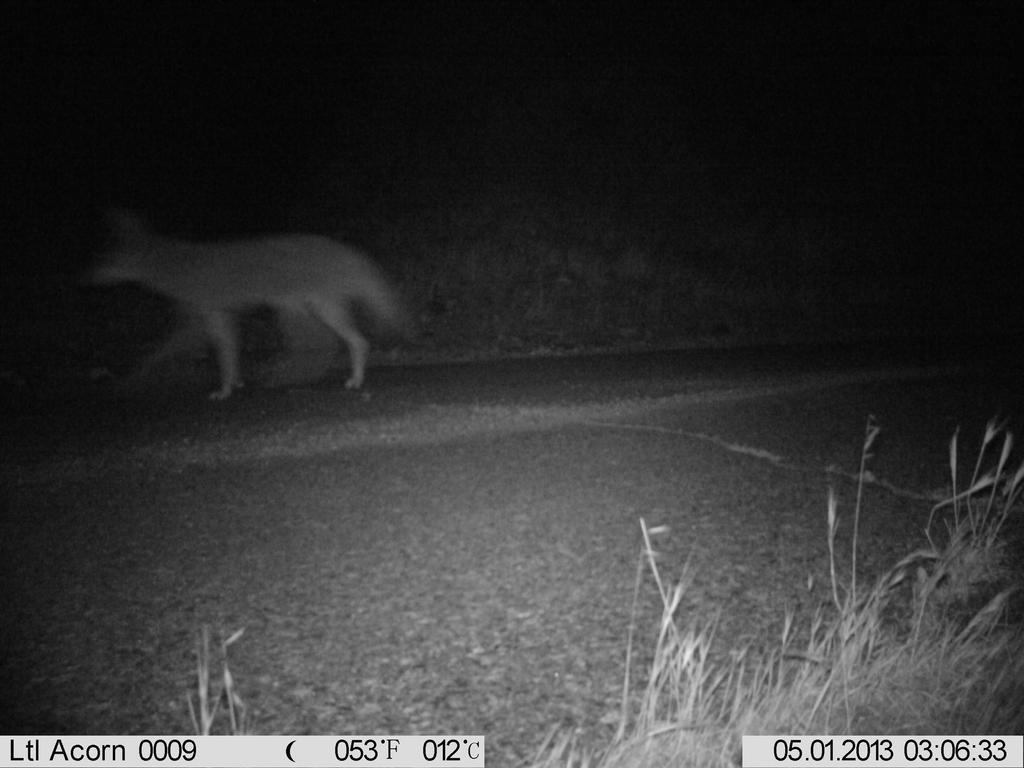coyote: (80, 208, 436, 406)
